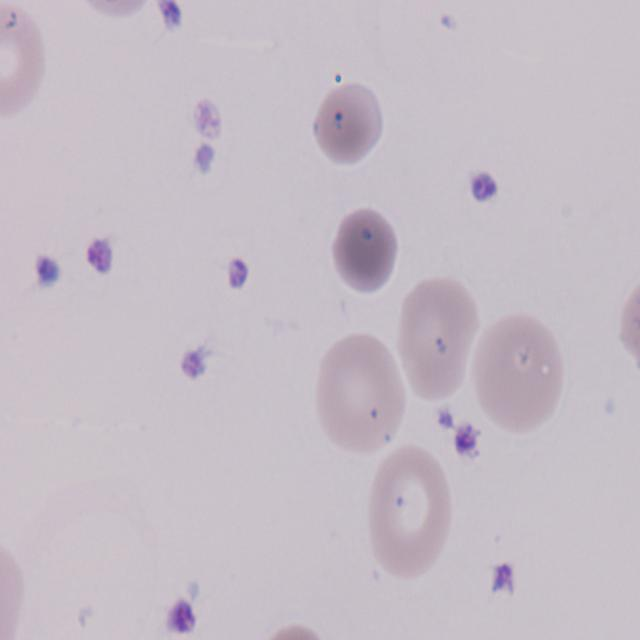RBC: (361, 438, 457, 585), (312, 326, 409, 460), (470, 312, 572, 439), (393, 274, 478, 408), (0, 0, 53, 128), (0, 530, 29, 640), (55, 0, 182, 21)
Spherocyte: (332, 205, 402, 296)
